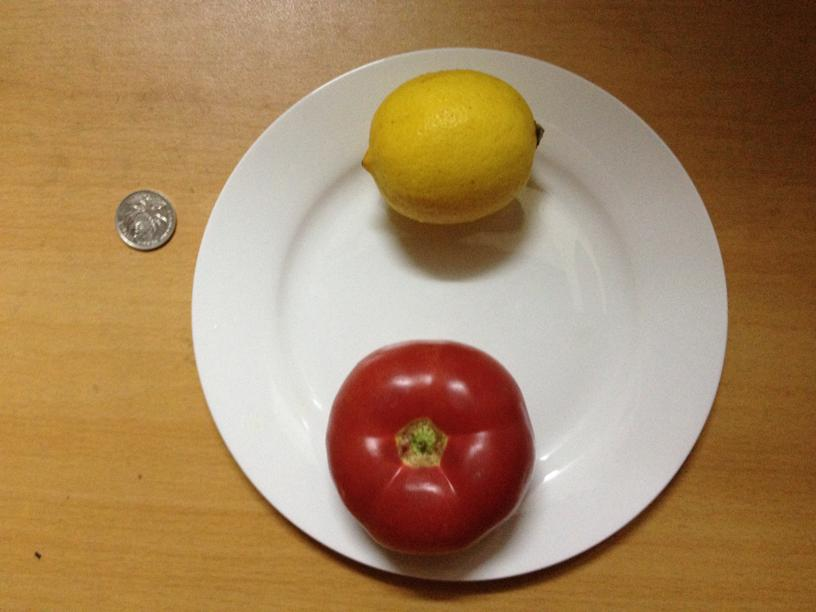coin: (113, 189, 177, 250)
lemon: (367, 69, 540, 227)
tomato: (327, 340, 536, 553)
